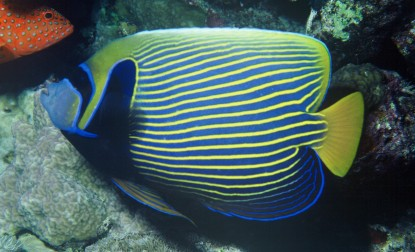Pomacanthus_imperator: (41, 23, 372, 230)
